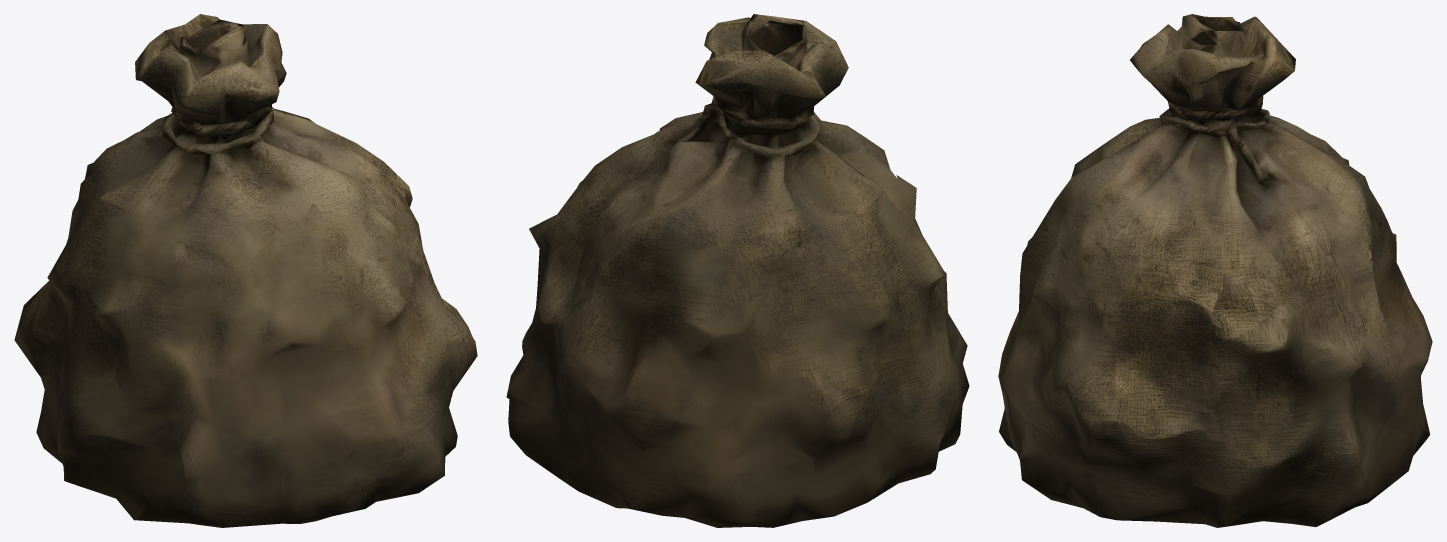
Rendered from sack+3d+model.glb.
3 renders of one model, left to right at view 1: azimuth 30°, elevation 25°; view 2: azimuth 150°, elevation 25°; view 3: azimuth 270°, elevation 25°, orthographic. The views are drawn at different scales.
Visible parts, largest first — view 1: tripo_node_35bd5d53-169a-4d45-b687-138bf213b6a6; view 2: tripo_node_35bd5d53-169a-4d45-b687-138bf213b6a6; view 3: tripo_node_35bd5d53-169a-4d45-b687-138bf213b6a6.
Part boxes in pixels (x1=…): tripo_node_35bd5d53-169a-4d45-b687-138bf213b6a6: x1=14, y1=14, x2=477, y2=527; tripo_node_35bd5d53-169a-4d45-b687-138bf213b6a6: x1=506, y1=14, x2=969, y2=527; tripo_node_35bd5d53-169a-4d45-b687-138bf213b6a6: x1=998, y1=14, x2=1432, y2=527.
Bounding box in the file's own units: 0.9567 × 1 × 0.9472.
Materials: 1 (1 with a texture image).
